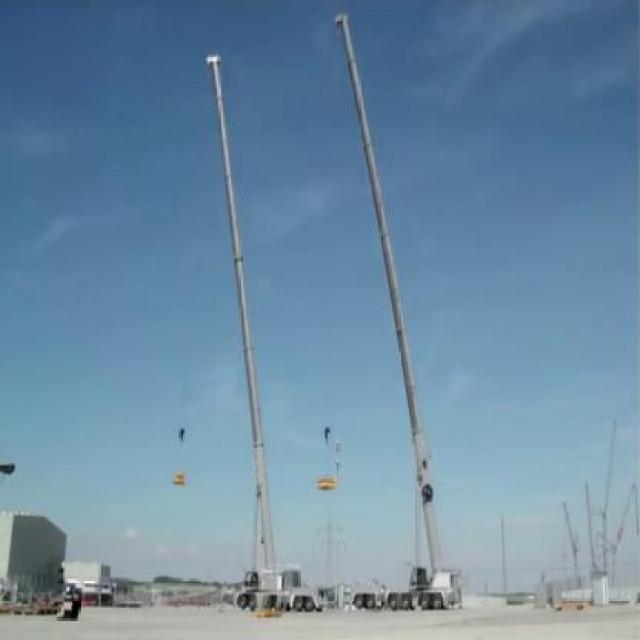Mobile Crane: (335, 4, 462, 610), (202, 50, 327, 615)
